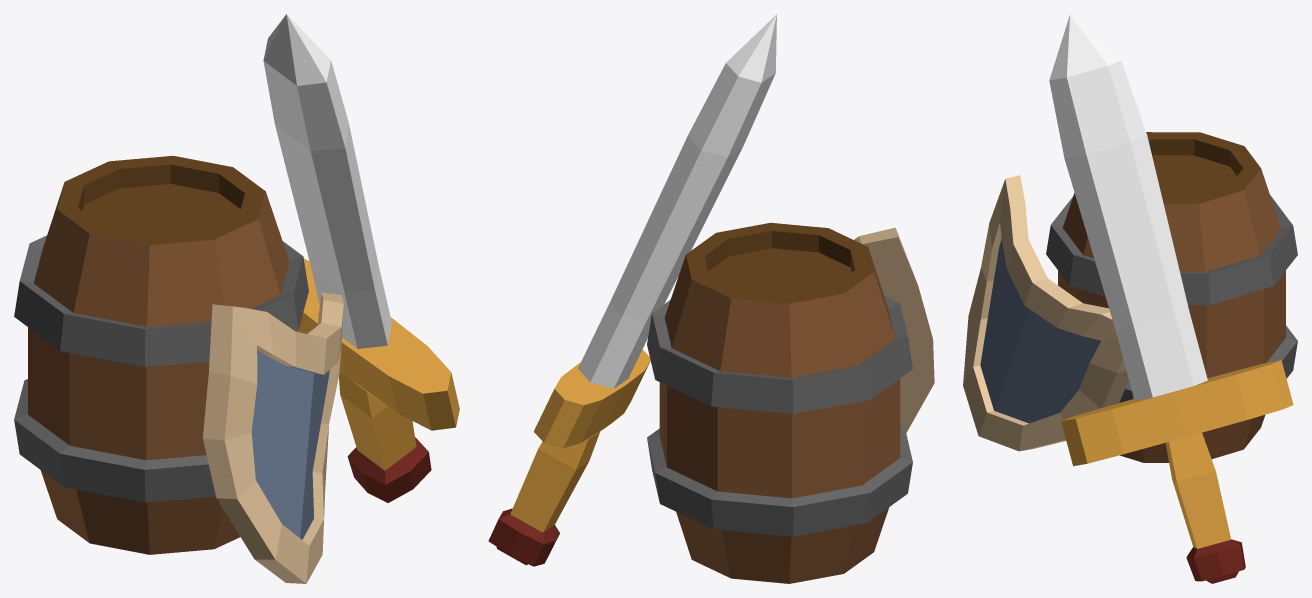
Rendered from 4. Poly weapons-CVC1cLSO.glb.
The picture shows the model from 3 angles, left to right: view 1: azimuth 30°, elevation 25°; view 2: azimuth 150°, elevation 25°; view 3: azimuth 270°, elevation 25°; orthographic projection. The views are drawn at different scales.
Visible parts, largest first — view 1: Cylinder.012, Cube.006, Circle.008; view 2: Cylinder.012, Cube.006, Circle.008; view 3: Cube.006, Cylinder.012, Circle.008.
Part boxes in pixels (box(x1,y1,x2,y2)): Cylinder.012: box(14, 155, 308, 554); Cube.006: box(263, 14, 459, 502); Circle.008: box(202, 292, 343, 583); Cylinder.012: box(647, 222, 912, 583); Cube.006: box(488, 14, 776, 566); Circle.008: box(854, 227, 934, 432); Cube.006: box(1049, 14, 1293, 583); Cylinder.012: box(1046, 132, 1297, 462); Circle.008: box(963, 175, 1128, 451).
Bounding box in the file's own units: 3.23 × 4.4 × 2.71.
